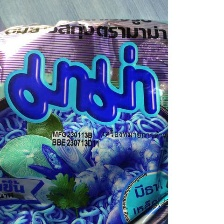snack: (0, 10, 167, 224)
